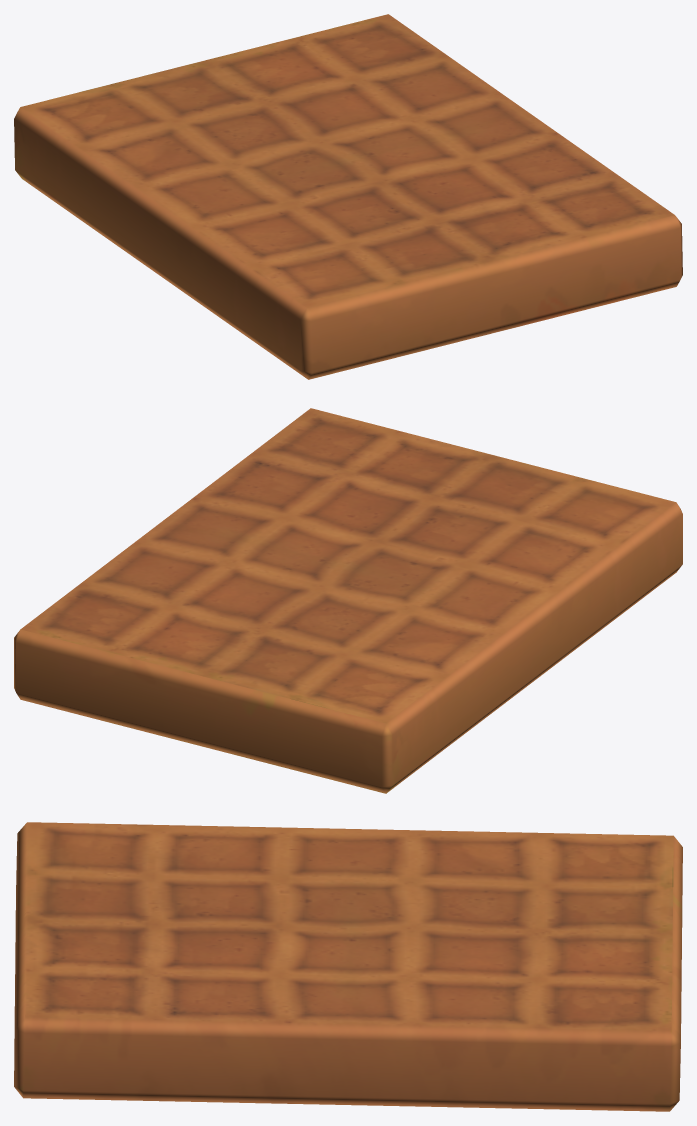
Rendered from SM_Food_SM_Waffle.fbx.
3 renders of one model, top to bottom at view 1: azimuth 30°, elevation 25°; view 2: azimuth 150°, elevation 25°; view 3: azimuth 270°, elevation 25°, orthographic. The views are drawn at different scales.
Parts seen in each view (by area): view 1: SM_Food_SM_Waffle_LOD0; view 2: SM_Food_SM_Waffle_LOD0; view 3: SM_Food_SM_Waffle_LOD0.
Boxes of the visible parts, x1,y1,x2,y2 form: SM_Food_SM_Waffle_LOD0: (14, 14, 682, 379); SM_Food_SM_Waffle_LOD0: (14, 408, 682, 793); SM_Food_SM_Waffle_LOD0: (14, 822, 682, 1111).
Bounding box in the file's own units: 20.16 × 27.26 × 4.34.
